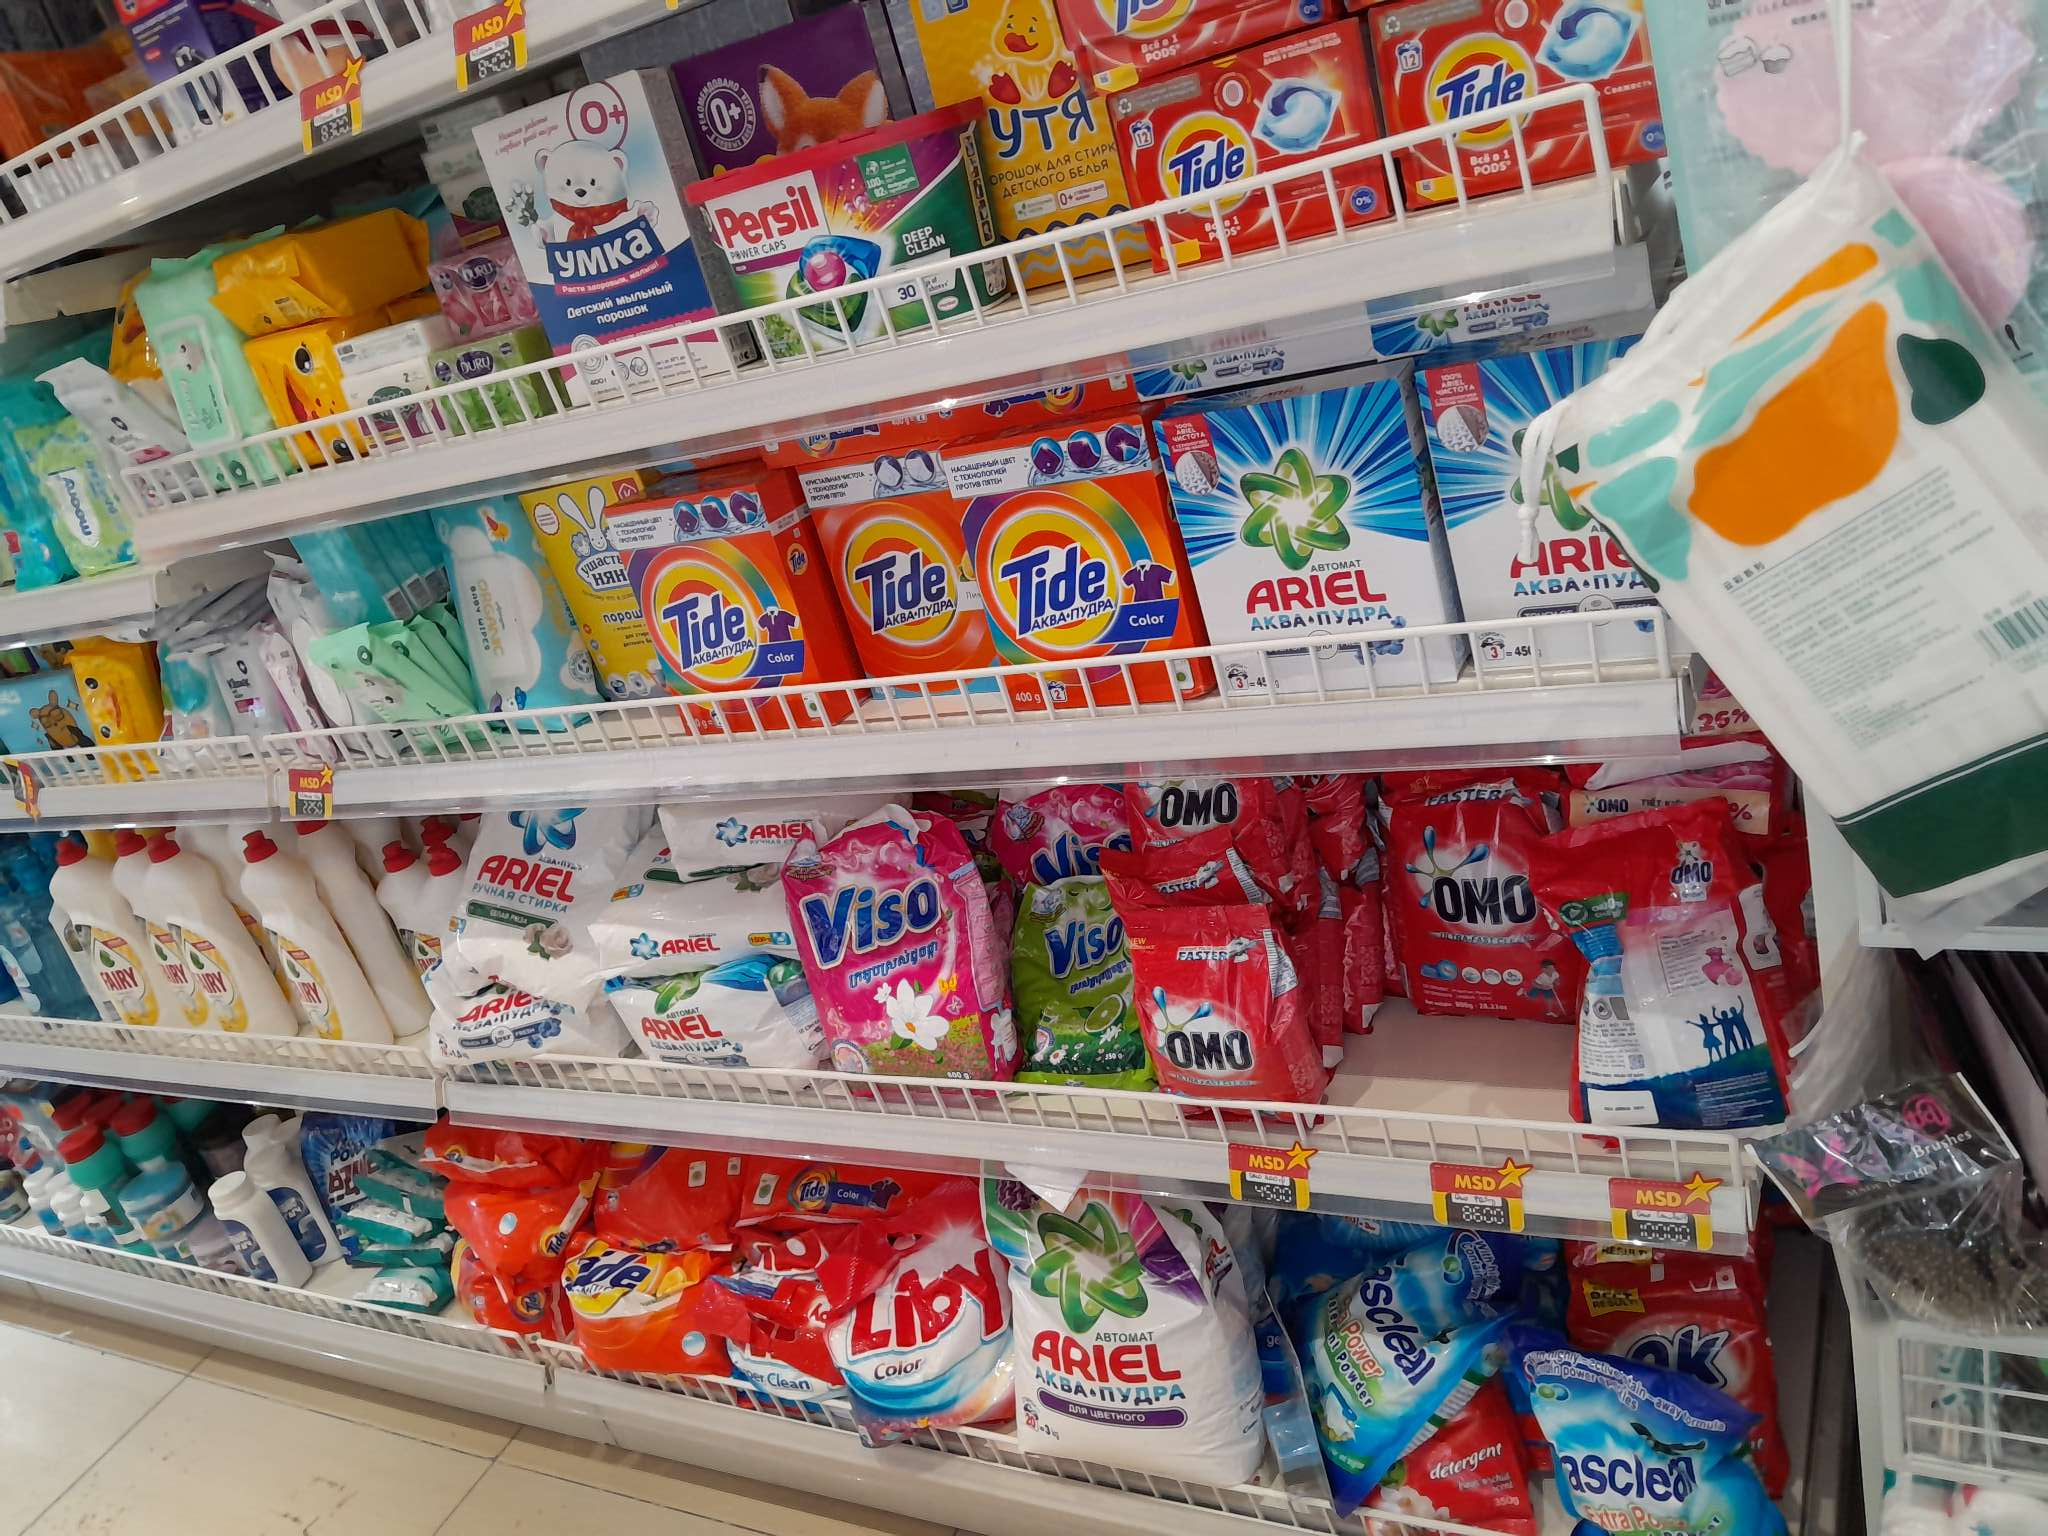ariel: (1392, 342, 1646, 678), (980, 1178, 1235, 1465), (1164, 394, 1390, 666), (610, 802, 792, 1097), (464, 810, 601, 1028)
ariun: (234, 268, 376, 460), (66, 645, 148, 768)
duru: (442, 339, 524, 426), (442, 245, 514, 324)
fairy: (235, 831, 368, 1042), (39, 834, 148, 1046), (134, 826, 226, 1066)
fasclean: (1527, 1342, 1751, 1536), (1309, 1228, 1493, 1418)
kleenex wipes: (208, 653, 305, 741)
liby: (824, 1183, 987, 1446)
moony: (34, 431, 126, 571)
nurse with ears: (542, 492, 614, 647)
omo: (1563, 784, 1769, 1137), (1398, 783, 1559, 1031), (1143, 908, 1290, 1110), (1126, 770, 1305, 908)
persil: (697, 155, 992, 334)
tide: (972, 428, 1188, 700), (610, 490, 816, 708), (1108, 60, 1351, 229), (806, 449, 959, 691), (540, 1184, 713, 1399)
umka: (527, 102, 705, 355)
viso: (811, 820, 977, 1087), (987, 802, 1130, 1089)
